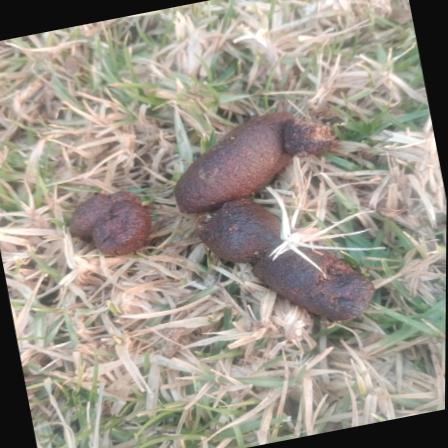dog-poop: (163, 87, 394, 361), (59, 175, 155, 268)
